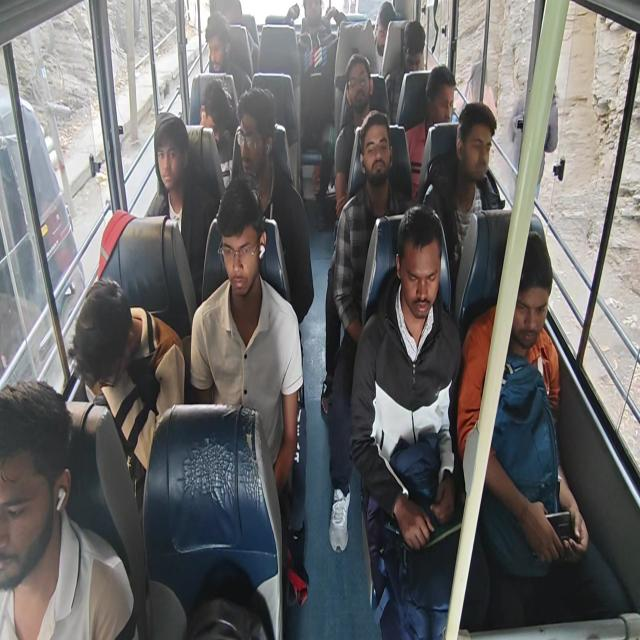person: (456, 230, 630, 626), (349, 202, 490, 638), (189, 174, 308, 600), (320, 109, 414, 553), (0, 378, 138, 639), (68, 276, 185, 516), (229, 86, 314, 324), (421, 101, 505, 312), (144, 111, 215, 302), (333, 52, 376, 220), (296, 0, 346, 144), (405, 64, 457, 200), (384, 20, 426, 124), (203, 11, 251, 101), (200, 78, 238, 177), (296, 0, 340, 74), (373, 1, 397, 74)
